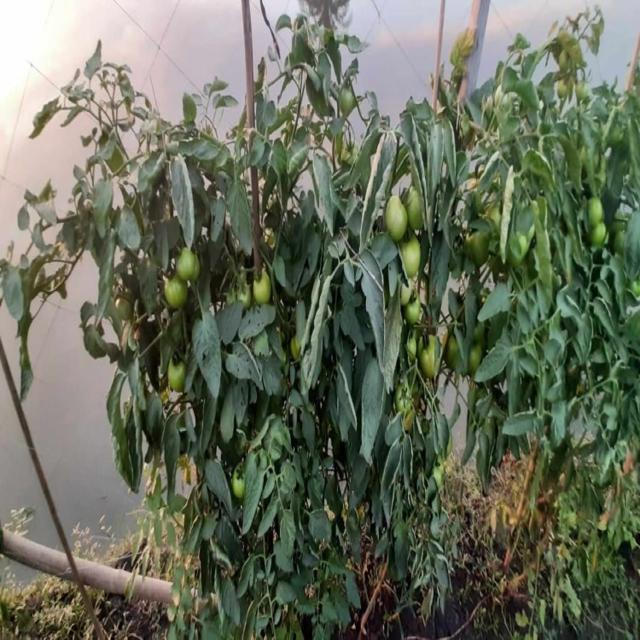tomato: (160, 358, 195, 400), (157, 278, 196, 315), (401, 178, 429, 229), (167, 248, 206, 284), (385, 191, 410, 245), (415, 336, 444, 375), (332, 79, 362, 113), (283, 326, 307, 367), (398, 236, 421, 278), (581, 199, 613, 227), (254, 260, 272, 309), (510, 232, 534, 264), (230, 465, 250, 500), (409, 300, 430, 331), (233, 286, 254, 316), (591, 222, 610, 251), (474, 340, 488, 379), (395, 283, 412, 304)
